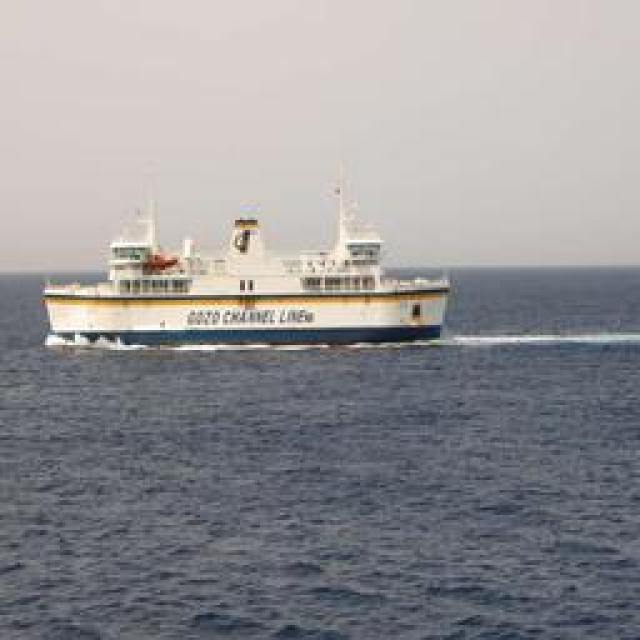CIV_Ship: (40, 178, 448, 348)
